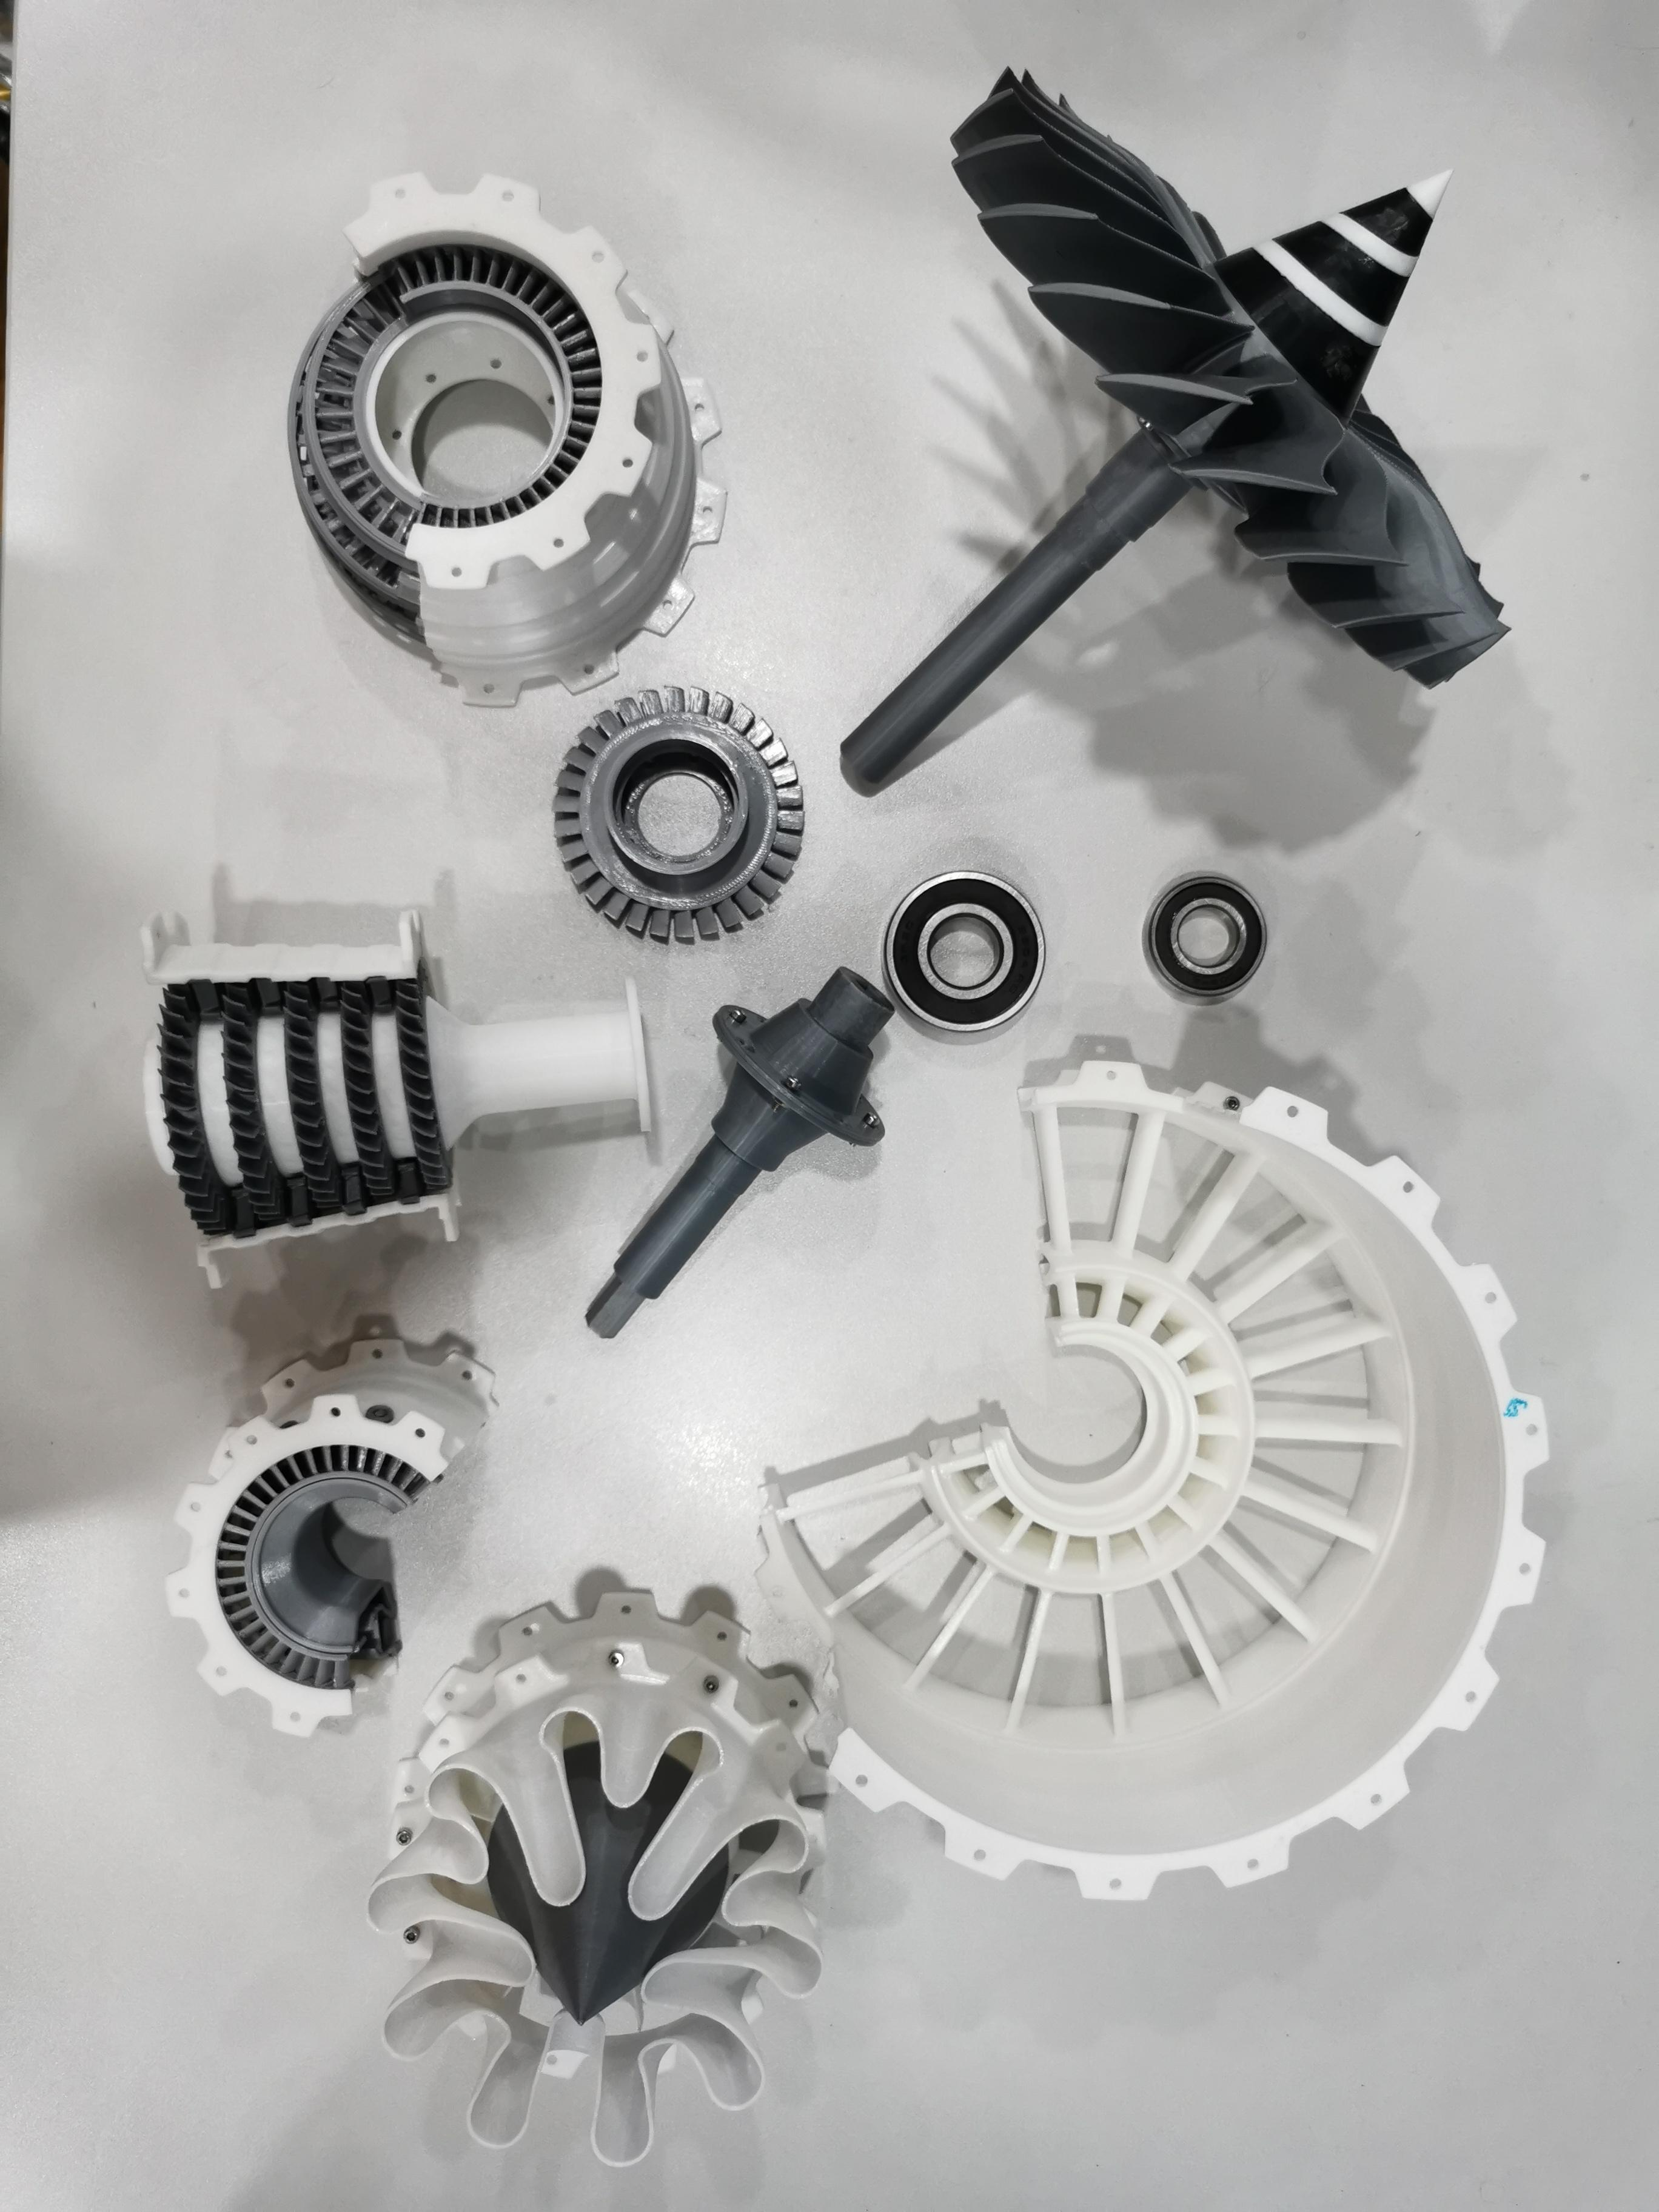Bearing-6003: (1126, 846, 1274, 1019)
Bearing-6204: (868, 848, 1054, 1055)
Combustion Section: (159, 1317, 498, 1763)
Fan Casing and Support: (739, 1045, 1570, 1907)
Fan and Low Pressure Shaft: (831, 61, 1525, 798)
HPT Section: (535, 681, 821, 960)
High Pressure Spool: (122, 902, 673, 1310)
LPT Section: (261, 158, 739, 712)
Low Pressure Spool: (568, 953, 920, 1353)
Nozzle Section: (361, 1576, 843, 2174)
